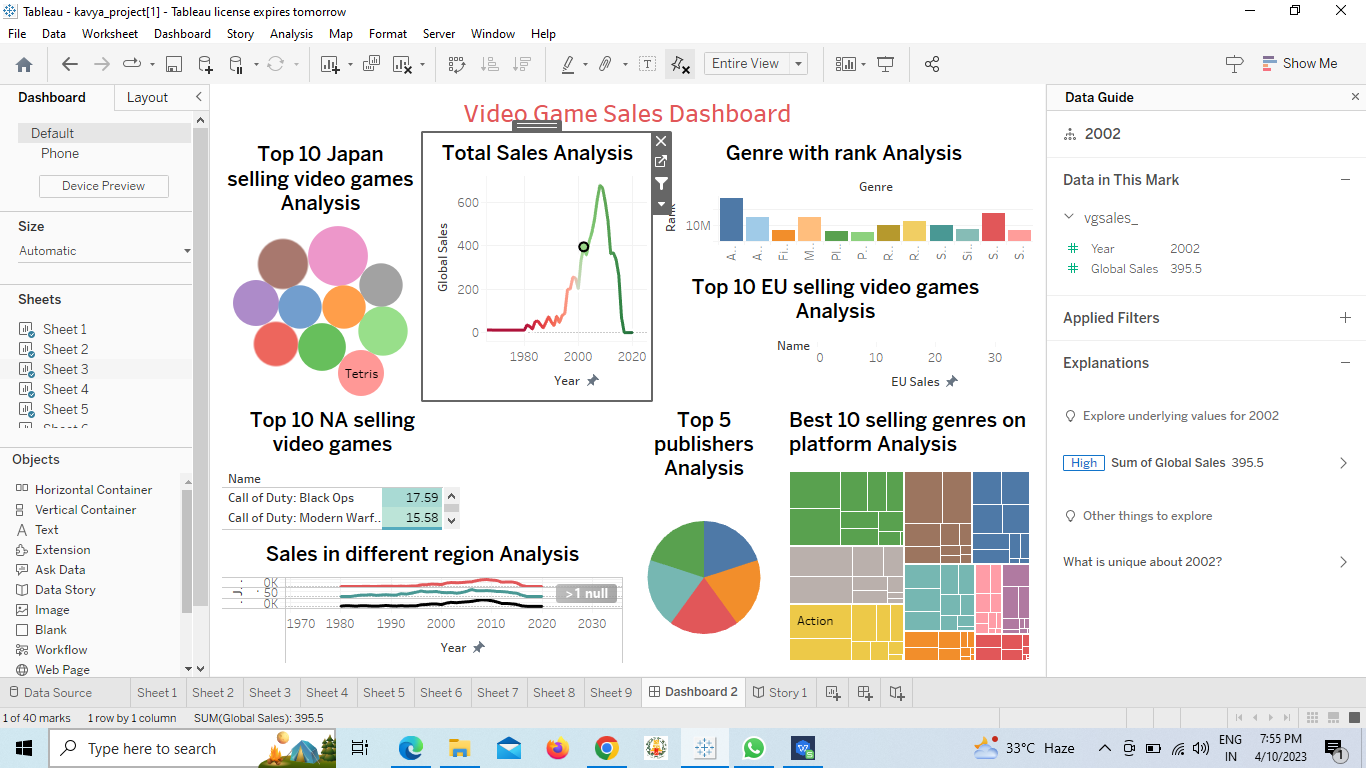

The page's visual inventory and layout, read from the dashboard file:
{"tool":"tableau","page":{"name":"Dashboard 2","canvas":[1000,1000],"units":"permille","ordinal":0},"visuals":[{"type":"title","box":[6,11.8,987.9,60.4]},{"type":"worksheet","title":"Sheet 7","mark":"Circle","box":[6,72.2,246.9,458]},{"type":"worksheet","title":"Sheet 3","mark":"Automatic","rows":["Global_Sales"],"cols":["Year"],"box":[253,72.2,275.7,458]},{"type":"worksheet","title":"Sheet 2","mark":"Automatic","rows":["Rank"],"cols":["Genre"],"box":[528.7,72.2,465.3,229]},{"type":"worksheet","title":"Sheet 6","mark":"Automatic","rows":["Name"],"cols":["EU_Sales"],"box":[528.7,301.1,465.3,229]},{"type":"worksheet","title":"Sheet 8","mark":"Square","rows":["Name"],"box":[6,530.2,493.9,229]},{"type":"worksheet","title":"Sheet 4","mark":"Pie","box":[500,530.2,185.7,458.1]},{"type":"worksheet","title":"Sheet 5","mark":"Automatic","box":[685.6,530.2,308.3,458.1]},{"type":"worksheet","title":"Sheet 1","mark":"Automatic","rows":["EU_Sales","JP_Sales","NA_Sales"],"cols":["Year"],"box":[6,759.2,493.9,229.1]}]}

Visuals, with their boxes on the dashboard's canvas, which has no fixed pixel size, in thousandths of its width and height (x1, y1, x2, y2). These are canvas units, not pixel positions in the 1366x768 screenshot, which may show the page scaled, cropped or inside an application window:
title: [6, 12, 994, 72]
"Sheet 7" worksheet (Circle marks): [6, 72, 253, 530]
"Sheet 3" worksheet: [253, 72, 529, 530]
"Sheet 2" worksheet: [529, 72, 994, 301]
"Sheet 6" worksheet: [529, 301, 994, 530]
"Sheet 8" worksheet (Square marks): [6, 530, 500, 759]
"Sheet 4" worksheet (Pie marks): [500, 530, 686, 988]
"Sheet 5" worksheet: [686, 530, 994, 988]
"Sheet 1" worksheet: [6, 759, 500, 988]
